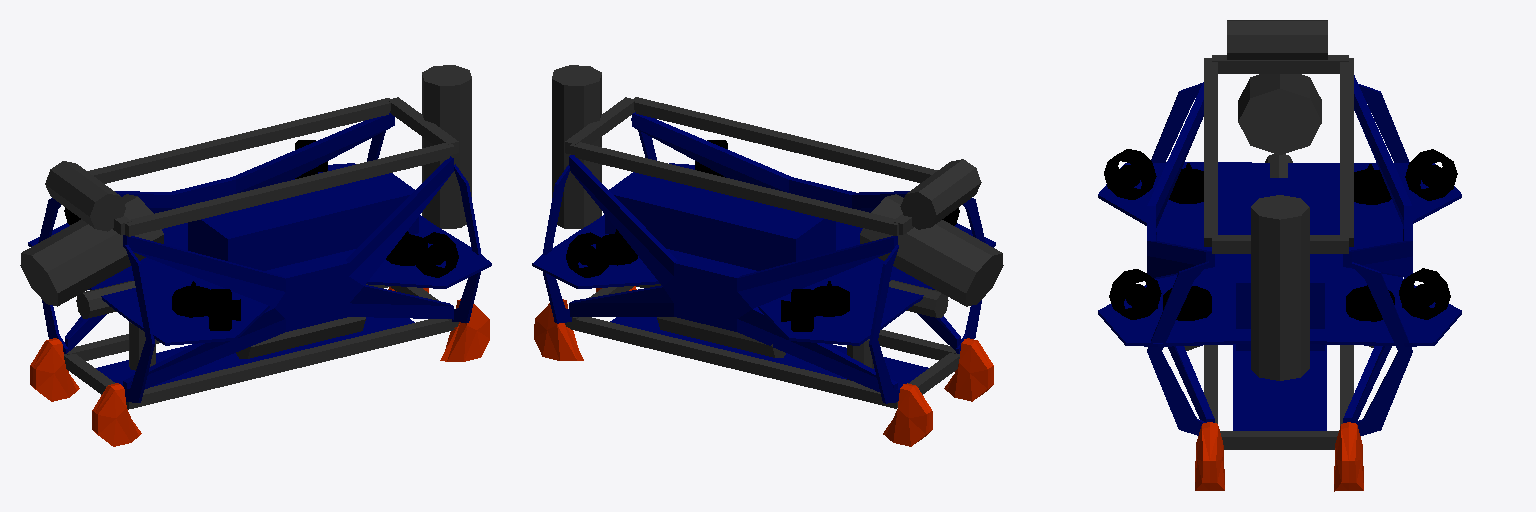
--- Render facts (derived) ---
The picture shows the robot from 3 angles, left to right: view 1: azimuth 30°, elevation 25°; view 2: azimuth 150°, elevation 25°; view 3: azimuth 270°, elevation 25°; orthographic projection.
Model sub9 with 22 links and 21 joints (8 revolute, 13 fixed), rooted at base_link, posed all joints at 0.
Visible links, largest first — view 1: base_link; view 2: base_link; view 3: base_link.
Link boxes in pixels (bbox=[...]): base_link: bbox=[20, 65, 491, 446]; base_link: bbox=[532, 65, 1003, 446]; base_link: bbox=[1098, 20, 1461, 491].
Bounding box of the posed robot: 0.9503 × 0.6072 × 0.5259 m (x, y, z).
1 mesh visuals loaded from 1 distinct referenced files (1 Collada DAE).

The robot description file, URDF, robot "sub9":
<?xml version="1.0" ?>
<!-- =================================================================================== -->
<!-- |    This document was autogenerated by xacro from [local-path]/mil2/src/subjugator/simulation/subjugator_description/urdf/sub9.urdf.xacro | -->
<!-- |    EDITING THIS FILE BY HAND IS NOT RECOMMENDED                                 | -->
<!-- =================================================================================== -->
<robot name="sub9" xmlns:experimental="http://sdformat.org/schemas/experimental" xmlns:gz="http://gazebosim.org/schema">
  <!-- Base Link of the Sub -->
  <link name="base_link">
    <!-- Sub's Pose -->
    <origin rpy="0 0 0" xyz="-0.1 0.0125 -1"/>
    <!-- Inertial Properties -->
    <inertial>
      <origin rpy="0 0 0" xyz="0 0 0"/>
      <!-- Need to be properly calculated at some point -->
      <mass value="30.5"/>
      <inertia ixx="0.96105" ixy="0.003" ixz="-0.02" iyy="1.799" iyz="0.0003" izz="2.1286"/>
    </inertial>
    <!-- Visual Data-->
    <visual name="visual">
      <origin rpy="0 0 0" xyz="0 0 0"/>
      <geometry>
        <mesh filename="package://subjugator_description/urdf/meshes/Sub9.dae"/>
      </geometry>
    </visual>
    <!-- Collision Data -->
    <collision name="main_collision">
      <!-- This collision is for calculating the buoyant forces-->
      <origin rpy="0 0 0" xyz="0 0 0.1"/>
      <geometry>
        <box size="0.9 0.35 0.2"/>
      </geometry>
    </collision>
    <!-- Need to add 'shell' collisions-->
  </link>
  <gazebo>
    <plugin filename="gz-sim-hydrodynamics-system" name="gz::sim::systems::Hydrodynamics">
      <link_name>base_link</link_name>
      <xDotU>-2</xDotU>
      <yDotV>-5</yDotV>
      <zDotW>-5</zDotW>
      <kDotP>-0.1</kDotP>
      <mDotQ>-1</mDotQ>
      <nDotR>-1</nDotR>
      <xUabsU>-25</xUabsU>
      <xU>-50</xU>
      <yVabsV>-25</yVabsV>
      <yV>-50</yV>
      <zWabsW>-5</zWabsW>
      <zW>-50</zW>
      <kPabsP>-5</kPabsP>
      <kP>-10</kP>
      <mQabsQ>-5</mQabsQ>
      <mQ>-10</mQ>
      <nRabsR>-5</nRabsR>
      <nR>-10</nR>
    </plugin>
  </gazebo>
  <!-- Camera Link -->
  <link name="front_cam_link">
    <origin rpy="0 0 0" xyz="0 0 0"/>
    <inertial>
      <origin rpy="0 0 0" xyz="0 0 0"/>
      <mass value="0.1"/>
      <inertia ixx="0.001" ixy="0" ixz="0" iyy="0.001" iyz="0" izz="0.001"/>
    </inertial>
  </link>
  <!-- Camera Joint -->
  <joint name="front_cam_joint" type="fixed">
    <origin rpy="0 0 3.14159" xyz="-0.32 -0.014274 -0.050"/>
    <parent link="base_link"/>
    <child link="front_cam_link"/>
  </joint>
  <!-- This ensures that the fixed link is not simplified away -->
  <gazebo reference="front_cam_joint">
    <disableFixedJointLumping>true</disableFixedJointLumping>
    <preserveFixedJoint>true</preserveFixedJoint>
  </gazebo>
  <gazebo reference="front_cam_link">
    <sensor name="front_cam_camera" type="rgbd_camera">
      <update_rate>30</update_rate>
      <visualize>true</visualize>
      <always_on>1</always_on>
      <topic>front_cam</topic>
      <camera>
        <horizontal_fov>1.047</horizontal_fov>
        <image>
          <width>960</width>
          <height>600</height>
        </image>
        <clip>
          <near>0.1</near>
          <far>10.0</far>
        </clip>
      </camera>
    </sensor>
  </gazebo>
  <!-- Camera Link -->
  <link name="down_cam_link">
    <origin rpy="0 0 0" xyz="0 0 0"/>
    <inertial>
      <origin rpy="0 0 0" xyz="0 0 0"/>
      <mass value="0.1"/>
      <inertia ixx="0.001" ixy="0" ixz="0" iyy="0.001" iyz="0" izz="0.001"/>
    </inertial>
  </link>
  <!-- Camera Joint -->
  <joint name="down_cam_joint" type="fixed">
    <origin rpy="0 1.57 0" xyz="-0.15222 0.027913 -0.22"/>
    <parent link="base_link"/>
    <child link="down_cam_link"/>
  </joint>
  <!-- This ensures that the fixed link is not simplified away -->
  <gazebo reference="down_cam_joint">
    <disableFixedJointLumping>true</disableFixedJointLumping>
    <preserveFixedJoint>true</preserveFixedJoint>
  </gazebo>
  <gazebo reference="down_cam_link">
    <sensor name="down_cam_camera" type="rgbd_camera">
      <update_rate>30</update_rate>
      <visualize>true</visualize>
      <always_on>1</always_on>
      <topic>down_cam</topic>
      <camera>
        <horizontal_fov>1.047</horizontal_fov>
        <image>
          <width>960</width>
          <height>600</height>
        </image>
        <clip>
          <near>0.1</near>
          <far>10.0</far>
        </clip>
      </camera>
    </sensor>
  </gazebo>
  <!-- DVL Link -->
  <link name="dvl_sensor_link">
    <origin rpy="0 0 0" xyz="0 0 0"/>
    <inertial>
      <origin rpy="0 0 0" xyz="0 0 0"/>
      <mass value="0.1"/>
      <inertia ixx="0.001" ixy="0" ixz="0" iyy="0.001" iyz="0" izz="0.001"/>
    </inertial>
  </link>
  <!-- DVL Joint -->
  <joint name="dvl_sensor_joint" type="fixed">
    <origin rpy="0 0 0" xyz="0.21236 0.00254 -0.10233"/>
    <parent link="base_link"/>
    <child link="dvl_sensor_link"/>
  </joint>
  <!-- This ensures that the fixed link is not simplified away -->
  <gazebo reference="dvl_sensor_joint">
    <disableFixedJointLumping>true</disableFixedJointLumping>
    <preserveFixedJoint>true</preserveFixedJoint>
  </gazebo>
  <!-- Sensor/Plugin Info-->
  <gazebo reference="dvl_sensor_link">
    <sensor gz:type="dvl" name="A50_Waterlinked" type="custom">
      <pose>0 0 0 0 0 0</pose>
      <always_on>1</always_on>
      <update_rate>8</update_rate>
      <topic>/dvl/velocity</topic>
      <gz:dvl>
        <type>phased_array</type>
        <arrangement degrees="true">
          <beam id="1">
            <aperture>3</aperture>
            <rotation>-135</rotation>
            <tilt>25</tilt>
          </beam>
          <beam>
            <aperture>3</aperture>
            <rotation>135</rotation>
            <tilt>25</tilt>
          </beam>
          <beam>
            <aperture>3</aperture>
            <rotation>45</rotation>
            <tilt>25</tilt>
          </beam>
          <beam>
            <aperture>3</aperture>
            <rotation>-45</rotation>
            <tilt>25</tilt>
          </beam>
        </arrangement>
        <tracking>
          <water_mass_mode>
            <when>best</when>
            <water_velocity>
              <x>0.</x>
              <y>0.</y>
              <z>0.</z>
            </water_velocity>
            <boundaries>
              <near>10.</near>
              <far>100.</far>
            </boundaries>
            <bins>10</bins>
            <noise type="gaussian">
              <stddev>0.015</stddev>
            </noise>
            <visualize>true</visualize>
          </water_mass_mode>
          <bottom_mode>
            <when>best</when>
            <noise type="gaussian">
              <stddev>0.005</stddev>
            </noise>
            <visualize>true</visualize>
          </bottom_mode>
        </tracking>
        <maximum_range>200.</maximum_range>
        <minimum_range>0.3</minimum_range>
        <!-- ENU to FSD -->
        <reference_frame>0 0 0 3.14 0 -1.57</reference_frame>
      </gz:dvl>
    </sensor>
  </gazebo>
  <gazebo>
    <plugin filename="DVLBridge" name="dave_ros_gz_plugins::DVLBridge">
      <!-- Grabbed in DVL Bridge script -->
      <topic>/dvl/velocity</topic>
    </plugin>
  </gazebo>
  <!-- Imu link -->
  <link name="imu_link">
    <origin rpy="0 0 0" xyz="0 0 0"/>
    <inertial>
      <origin rpy="0 0 0" xyz="0 0 0"/>
      <mass value="0.1"/>
      <inertia ixx="0.001" ixy="0" ixz="0" iyy="0.001" iyz="0" izz="0.001"/>
    </inertial>
  </link>
  <!-- IMU joint -->
  <joint name="imu_joint" type="fixed">
    <origin rpy="0 0 0" xyz="0.0632 -0.164 -0.079"/>
    <parent link="base_link"/>
    <child link="imu_link"/>
  </joint>
  <!-- This ensures that the fixed link is not simplified away -->
  <gazebo reference="imu_joint">
    <disableFixedJointLumping>true</disableFixedJointLumping>
    <preserveFixedJoint>true</preserveFixedJoint>
  </gazebo>
  <!-- Sensor/Plugin Info-->
  <gazebo reference="imu_link">
    <sensor name="imu_link" type="imu">
      <always_on>true</always_on>
      <update_rate>210</update_rate>
      <topic>/imu/data_raw</topic>
      <gz_frame_id>imu_link</gz_frame_id>
      <imu>
        <linear_acceleration>
          <x>
            <noise type="gaussian">
              <stddev>0.08825985</stddev>
            </noise>
          </x>
          <y>
            <noise type="gaussian">
              <stddev>0.08825985</stddev>
            </noise>
          </y>
          <z>
            <noise type="gaussian">
              <stddev>0.08825985</stddev>
            </noise>
          </z>
        </linear_acceleration>
        <angular_velocity>
          <x>
            <noise type="gaussian">
              <stddev>0.015707963</stddev>
            </noise>
          </x>
          <y>
            <noise type="gaussian">
              <stddev>0.015707963</stddev>
            </noise>
          </y>
          <z>
            <noise type="gaussian">
              <stddev>0.015707963</stddev>
            </noise>
          </z>
        </angular_velocity>
      </imu>
      <plugin filename="gz-sim-imu-system" name="gz::sim::systems::Imu"/>
    </sensor>
    <sensor name="VectorNav_MAG" type="magnetometer">
      <always_on>true</always_on>
      <update_rate>210</update_rate>
      <topic>/imu/mag</topic>
      <plugin filename="gz-sim-magnetometer-system" name="gz::sim::systems::Magnetometer"/>
    </sensor>
  </gazebo>
  <link name="depth_sensor_link">
    <origin rpy="0 0 0" xyz="0 0 0"/>
    <inertial>
      <origin rpy="0 0 0" xyz="0 0 0"/>
      <mass value="0.1"/>
      <inertia ixx="0.001" ixy="0" ixz="0" iyy="0.001" iyz="0" izz="0.001"/>
    </inertial>
  </link>
  <!-- DepthSensor Joint -->
  <joint name="depth_sensor_joint" type="fixed">
    <parent link="base_link"/>
    <child link="depth_sensor_link"/>
    <origin rpy="0 0 0" xyz="0 0 -0.2"/>
  </joint>
  <!-- This ensures that the fixed link is not simplified away -->
  <gazebo reference="depth_sensor_joint">
    <disableFixedJointLumping>true</disableFixedJointLumping>
    <preserveFixedJoint>true</preserveFixedJoint>
  </gazebo>
  <gazebo reference="depth_sensor_plugin">
    <sensor name="depth" type="depth_sensor">
      <topic>/depth</topic>
      <plugin filename="DepthSensor" name="depth_sensor::DepthSensor">
        <!-- SDF parameters -->
        <frame_id>depth_sensor_frame</frame_id>
        <offset>0 0 0 0 0 0</offset>
        <update_rate>10</update_rate>
      </plugin>
    </sensor>
  </gazebo>
  <!-- Link for base of thruster (this is for TF) -->
  <link name="FLV_link">
    <origin rpy="0 0 0" xyz="0 0 0"/>
    <inertial>
      <origin rpy="0 0 0" xyz="0 0 0"/>
      <mass value="0.01"/>
      <inertia ixx="0.001" ixy="0" ixz="0" iyy="0.001" iyz="0" izz="0.001"/>
    </inertial>
  </link>
  <!-- Thruster base Joint -->
  <joint name="FLV_joint" type="fixed">
    <origin rpy="0 0 0" xyz="-0.15217 -0.16474 0.010449"/>
    <parent link="base_link"/>
    <child link="FLV_link"/>
  </joint>
  <!-- This ensures that the fixed link is not simplified away -->
  <gazebo reference="FLV_joint">
    <disableFixedJointLumping>true</disableFixedJointLumping>
    <preserveFixedJoint>true</preserveFixedJoint>
  </gazebo>
  <!-- Thruster Direction link (this is for the plugin) -->
  <!-- The plugin does not work with a fixed link -->
  <link name="FLV_dir_link">
    <origin rpy="0 0 0" xyz="0 0 0"/>
    <inertial>
      <origin rpy="0 0 0" xyz="0 0 0"/>
      <mass value="0.01"/>
      <inertia ixx="0.001" ixy="0" ixz="0" iyy="0.001" iyz="0" izz="0.001"/>
    </inertial>
  </link>
  <!-- Thruster Direction joint -->
  <joint name="FLV_dir_joint" type="revolute">
    <origin rpy="0 0 0" xyz="0 0 1"/>
    <parent link="FLV_link"/>
    <child link="FLV_dir_link"/>
    <limit effort="1000" lower="0.0" upper="0.548" velocity="0.5"/>
    <axis xyz="0 0 1"/>
  </joint>
  <!-- Sensor/Plugin Info-->
  <!-- For the thruster plugin this gazebo tag needs to be global-->
  <!-- Don't give it a reference like the other plugins-->
  <gazebo>
    <plugin filename="gz-sim-thruster-system" name="gz::sim::systems::Thruster">
      <namespace>FLV</namespace>
      <use_angvel_cmd>0</use_angvel_cmd>
      <joint_name>FLV_dir_joint</joint_name>
      <thrust_coefficient>0.01407</thrust_coefficient>
      <fluid_density>1000</fluid_density>
      <propeller_diameter>0.2</propeller_diameter>
    </plugin>
  </gazebo>
  <!-- Link for base of thruster (this is for TF) -->
  <link name="FRV_link">
    <origin rpy="0 0 0" xyz="0 0 0"/>
    <inertial>
      <origin rpy="0 0 0" xyz="0 0 0"/>
      <mass value="0.01"/>
      <inertia ixx="0.001" ixy="0" ixz="0" iyy="0.001" iyz="0" izz="0.001"/>
    </inertial>
  </link>
  <!-- Thruster base Joint -->
  <joint name="FRV_joint" type="fixed">
    <origin rpy="0 0 0" xyz="-0.1492 0.13821 0.010449"/>
    <parent link="base_link"/>
    <child link="FRV_link"/>
  </joint>
  <!-- This ensures that the fixed link is not simplified away -->
  <gazebo reference="FRV_joint">
    <disableFixedJointLumping>true</disableFixedJointLumping>
    <preserveFixedJoint>true</preserveFixedJoint>
  </gazebo>
  <!-- Thruster Direction link (this is for the plugin) -->
  <!-- The plugin does not work with a fixed link -->
  <link name="FRV_dir_link">
    <origin rpy="0 0 0" xyz="0 0 0"/>
    <inertial>
      <origin rpy="0 0 0" xyz="0 0 0"/>
      <mass value="0.01"/>
      <inertia ixx="0.001" ixy="0" ixz="0" iyy="0.001" iyz="0" izz="0.001"/>
    </inertial>
  </link>
  <!-- Thruster Direction joint -->
  <joint name="FRV_dir_joint" type="revolute">
    <origin rpy="0 0 0" xyz="0 0 1"/>
    <parent link="FRV_link"/>
    <child link="FRV_dir_link"/>
    <limit effort="1000" lower="0.0" upper="0.548" velocity="0.5"/>
    <axis xyz="0 0 1"/>
  </joint>
  <!-- Sensor/Plugin Info-->
  <!-- For the thruster plugin this gazebo tag needs to be global-->
  <!-- Don't give it a reference like the other plugins-->
  <gazebo>
    <plugin filename="gz-sim-thruster-system" name="gz::sim::systems::Thruster">
      <namespace>FRV</namespace>
      <use_angvel_cmd>0</use_angvel_cmd>
      <joint_name>FRV_dir_joint</joint_name>
      <thrust_coefficient>0.01407</thrust_coefficient>
      <fluid_density>1000</fluid_density>
      <propeller_diameter>0.2</propeller_diameter>
    </plugin>
  </gazebo>
  <!-- Link for base of thruster (this is for TF) -->
  <link name="BRV_link">
    <origin rpy="0 0 0" xyz="0 0 0"/>
    <inertial>
      <origin rpy="0 0 0" xyz="0 0 0"/>
      <mass value="0.01"/>
      <inertia ixx="0.001" ixy="0" ixz="0" iyy="0.001" iyz="0" izz="0.001"/>
    </inertial>
  </link>
  <!-- Thruster base Joint -->
  <joint name="BRV_joint" type="fixed">
    <origin rpy="0 0 0" xyz="0.31117 0.13821 0.010449"/>
    <parent link="base_link"/>
    <child link="BRV_link"/>
  </joint>
  <!-- This ensures that the fixed link is not simplified away -->
  <gazebo reference="BRV_joint">
    <disableFixedJointLumping>true</disableFixedJointLumping>
    <preserveFixedJoint>true</preserveFixedJoint>
  </gazebo>
  <!-- Thruster Direction link (this is for the plugin) -->
  <!-- The plugin does not work with a fixed link -->
  <link name="BRV_dir_link">
    <origin rpy="0 0 0" xyz="0 0 0"/>
    <inertial>
      <origin rpy="0 0 0" xyz="0 0 0"/>
      <mass value="0.01"/>
      <inertia ixx="0.001" ixy="0" ixz="0" iyy="0.001" iyz="0" izz="0.001"/>
    </inertial>
  </link>
  <!-- Thruster Direction joint -->
  <joint name="BRV_dir_joint" type="revolute">
    <origin rpy="0 0 0" xyz="0 0 1"/>
    <parent link="BRV_link"/>
    <child link="BRV_dir_link"/>
    <limit effort="1000" lower="0.0" upper="0.548" velocity="0.5"/>
    <axis xyz="0 0 1"/>
  </joint>
  <!-- Sensor/Plugin Info-->
  <!-- For the thruster plugin this gazebo tag needs to be global-->
  <!-- Don't give it a reference like the other plugins-->
  <gazebo>
    <plugin filename="gz-sim-thruster-system" name="gz::sim::systems::Thruster">
      <namespace>BRV</namespace>
      <use_angvel_cmd>0</use_angvel_cmd>
      <joint_name>BRV_dir_joint</joint_name>
      <thrust_coefficient>0.01407</thrust_coefficient>
      <fluid_density>1000</fluid_density>
      <propeller_diameter>0.2</propeller_diameter>
    </plugin>
  </gazebo>
  <!-- Link for base of thruster (this is for TF) -->
  <link name="BLV_link">
    <origin rpy="0 0 0" xyz="0 0 0"/>
    <inertial>
      <origin rpy="0 0 0" xyz="0 0 0"/>
      <mass value="0.01"/>
      <inertia ixx="0.001" ixy="0" ixz="0" iyy="0.001" iyz="0" izz="0.001"/>
    </inertial>
  </link>
  <!-- Thruster base Joint -->
  <joint name="BLV_joint" type="fixed">
    <origin rpy="0 0 0" xyz="0.30868 -0.16621 0.010449"/>
    <parent link="base_link"/>
    <child link="BLV_link"/>
  </joint>
  <!-- This ensures that the fixed link is not simplified away -->
  <gazebo reference="BLV_joint">
    <disableFixedJointLumping>true</disableFixedJointLumping>
    <preserveFixedJoint>true</preserveFixedJoint>
  </gazebo>
  <!-- Thruster Direction link (this is for the plugin) -->
  <!-- The plugin does not work with a fixed link -->
  <link name="BLV_dir_link">
    <origin rpy="0 0 0" xyz="0 0 0"/>
    <inertial>
      <origin rpy="0 0 0" xyz="0 0 0"/>
      <mass value="0.01"/>
      <inertia ixx="0.001" ixy="0" ixz="0" iyy="0.001" iyz="0" izz="0.001"/>
    </inertial>
  </link>
  <!-- Thruster Direction joint -->
  <joint name="BLV_dir_joint" type="revolute">
    <origin rpy="0 0 0" xyz="0 0 1"/>
    <parent link="BLV_link"/>
    <child link="BLV_dir_link"/>
    <limit effort="1000" lower="0.0" upper="0.548" velocity="0.5"/>
    <axis xyz="0 0 1"/>
  </joint>
  <!-- Sensor/Plugin Info-->
  <!-- For the thruster plugin this gazebo tag needs to be global-->
  <!-- Don't give it a reference like the other plugins-->
  <gazebo>
    <plugin filename="gz-sim-thruster-system" name="gz::sim::systems::Thruster">
      <namespace>BLV</namespace>
      <use_angvel_cmd>0</use_angvel_cmd>
      <joint_name>BLV_dir_joint</joint_name>
      <thrust_coefficient>0.01407</thrust_coefficient>
      <fluid_density>1000</fluid_density>
      <propeller_diameter>0.2</propeller_diameter>
    </plugin>
  </gazebo>
  <!-- Link for base of thruster (this is for TF) -->
  <link name="FLH_link">
    <origin rpy="0 0 0" xyz="0 0 0"/>
    <inertial>
      <origin rpy="0 0 0" xyz="0 0 0"/>
      <mass value="0.01"/>
      <inertia ixx="0.001" ixy="0" ixz="0" iyy="0.001" iyz="0" izz="0.001"/>
    </inertial>
  </link>
  <!-- Thruster base Joint -->
  <joint name="FLH_joint" type="fixed">
    <origin rpy="-1.5708 0 0.7854" xyz="-0.14714 -0.26409 0.038317"/>
    <parent link="base_link"/>
    <child link="FLH_link"/>
  </joint>
  <!-- This ensures that the fixed link is not simplified away -->
  <gazebo reference="FLH_joint">
    <disableFixedJointLumping>true</disableFixedJointLumping>
    <preserveFixedJoint>true</preserveFixedJoint>
  </gazebo>
  <!-- Thruster Direction link (this is for the plugin) -->
  <!-- The plugin does not work with a fixed link -->
  <link name="FLH_dir_link">
    <origin rpy="0 0 0" xyz="0 0 0"/>
    <inertial>
      <origin rpy="0 0 0" xyz="0 0 0"/>
      <mass value="0.01"/>
      <inertia ixx="0.001" ixy="0" ixz="0" iyy="0.001" iyz="0" izz="0.001"/>
    </inertial>
  </link>
  <!-- Thruster Direction joint -->
  <joint name="FLH_dir_joint" type="revolute">
    <origin rpy="0 0 0" xyz="0 0 1"/>
    <parent link="FLH_link"/>
    <child link="FLH_dir_link"/>
    <limit effort="1000" lower="0.0" upper="0.548" velocity="0.5"/>
    <axis xyz="0 0 1"/>
  </joint>
  <!-- Sensor/Plugin Info-->
  <!-- For the thruster plugin this gazebo tag needs to be global-->
  <!-- Don't give it a reference like the other plugins-->
  <gazebo>
    <plugin filename="gz-sim-thruster-system" name="gz::sim::systems::Thruster">
      <namespace>FLH</namespace>
      <use_angvel_cmd>0</use_angvel_cmd>
      <joint_name>FLH_dir_joint</joint_name>
      <thrust_coefficient>0.01407</thrust_coefficient>
      <fluid_density>1000</fluid_density>
      <propeller_diameter>0.2</propeller_diameter>
    </plugin>
  </gazebo>
  <!-- Link for base of thruster (this is for TF) -->
  <link name="FRH_link">
    <origin rpy="0 0 0" xyz="0 0 0"/>
    <inertial>
      <origin rpy="0 0 0" xyz="0 0 0"/>
      <mass value="0.01"/>
      <inertia ixx="0.001" ixy="0" ixz="0" iyy="0.001" iyz="0" izz="0.001"/>
    </inertial>
  </link>
  <!-- Thruster base Joint -->
  <joint name="FRH_joint" type="fixed">
    <origin rpy="1.5708 0 -0.7854" xyz="-0.147 0.2413 0.038324"/>
    <parent link="base_link"/>
    <child link="FRH_link"/>
  </joint>
  <!-- This ensures that the fixed link is not simplified away -->
  <gazebo reference="FRH_joint">
    <disableFixedJointLumping>true</disableFixedJointLumping>
    <preserveFixedJoint>true</preserveFixedJoint>
  </gazebo>
  <!-- Thruster Direction link (this is for the plugin) -->
  <!-- The plugin does not work with a fixed link -->
  <link name="FRH_dir_link">
    <origin rpy="0 0 0" xyz="0 0 0"/>
    <inertial>
      <origin rpy="0 0 0" xyz="0 0 0"/>
      <mass value="0.01"/>
      <inertia ixx="0.001" ixy="0" ixz="0" iyy="0.001" iyz="0" izz="0.001"/>
    </inertial>
  </link>
  <!-- Thruster Direction joint -->
  <joint name="FRH_dir_joint" type="revolute">
    <origin rpy="0 0 0" xyz="0 0 1"/>
    <parent link="FRH_link"/>
    <child link="FRH_dir_link"/>
    <limit effort="1000" lower="0.0" upper="0.548" velocity="0.5"/>
    <axis xyz="0 0 1"/>
  </joint>
  <!-- Sensor/Plugin Info-->
  <!-- For the thruster plugin this gazebo tag needs to be global-->
  <!-- Don't give it a reference like the other plugins-->
  <gazebo>
    <plugin filename="gz-sim-thruster-system" name="gz::sim::systems::Thruster">
      <namespace>FRH</namespace>
      <use_angvel_cmd>0</use_angvel_cmd>
      <joint_name>FRH_dir_joint</joint_name>
      <thrust_coefficient>0.01407</thrust_coefficient>
      <fluid_density>1000</fluid_density>
      <propeller_diameter>0.2</propeller_diameter>
    </plugin>
  </gazebo>
  <!-- Link for base of thruster (this is for TF) -->
  <link name="BRH_link">
    <origin rpy="0 0 0" xyz="0 0 0"/>
    <inertial>
      <origin rpy="0 0 0" xyz="0 0 0"/>
      <mass value="0.01"/>
      <inertia ixx="0.001" ixy="0" ixz="0" iyy="0.001" iyz="0" izz="0.001"/>
    </inertial>
  </link>
  <!-- Thruster base Joint -->
  <joint name="BRH_joint" type="fixed">
    <origin rpy="-1.5708 0 0.7854" xyz="0.32369 0.22645 0.038317"/>
    <parent link="base_link"/>
    <child link="BRH_link"/>
  </joint>
  <!-- This ensures that the fixed link is not simplified away -->
  <gazebo reference="BRH_joint">
    <disableFixedJointLumping>true</disableFixedJointLumping>
    <preserveFixedJoint>true</preserveFixedJoint>
  </gazebo>
  <!-- Thruster Direction link (this is for the plugin) -->
  <!-- The plugin does not work with a fixed link -->
  <link name="BRH_dir_link">
    <origin rpy="0 0 0" xyz="0 0 0"/>
    <inertial>
      <origin rpy="0 0 0" xyz="0 0 0"/>
      <mass value="0.01"/>
      <inertia ixx="0.001" ixy="0" ixz="0" iyy="0.001" iyz="0" izz="0.001"/>
    </inertial>
  </link>
  <!-- Thruster Direction joint -->
  <joint name="BRH_dir_joint" type="revolute">
    <origin rpy="0 0 0" xyz="0 0 1"/>
    <parent link="BRH_link"/>
    <child link="BRH_dir_link"/>
    <limit effort="1000" lower="0.0" upper="0.548" velocity="0.5"/>
    <axis xyz="0 0 1"/>
  </joint>
  <!-- Sensor/Plugin Info-->
  <!-- For the thruster plugin this gazebo tag needs to be global-->
  <!-- Don't give it a reference like the other plugins-->
  <gazebo>
    <plugin filename="gz-sim-thruster-system" name="gz::sim::systems::Thruster">
      <namespace>BRH</namespace>
      <use_angvel_cmd>0</use_angvel_cmd>
      <joint_name>BRH_dir_joint</joint_name>
      <thrust_coefficient>0.01407</thrust_coefficient>
      <fluid_density>1000</fluid_density>
      <propeller_diameter>0.2</propeller_diameter>
    </plugin>
  </gazebo>
  <!-- Link for base of thruster (this is for TF) -->
  <link name="BLH_link">
    <origin rpy="0 0 0" xyz="0 0 0"/>
    <inertial>
      <origin rpy="0 0 0" xyz="0 0 0"/>
      <mass value="0.01"/>
      <inertia ixx="0.001" ixy="0" ixz="0" iyy="0.001" iyz="0" izz="0.001"/>
    </inertial>
  </link>
  <!-- Thruster base Joint -->
  <joint name="BLH_joint" type="fixed">
    <origin rpy="1.5708 0 -0.7854" xyz="0.32397 -0.25204 0.038324"/>
    <parent link="base_link"/>
    <child link="BLH_link"/>
  </joint>
  <!-- This ensures that the fixed link is not simplified away -->
  <gazebo reference="BLH_joint">
    <disableFixedJointLumping>true</disableFixedJointLumping>
    <preserveFixedJoint>true</preserveFixedJoint>
  </gazebo>
  <!-- Thruster Direction link (this is for the plugin) -->
  <!-- The plugin does not work with a fixed link -->
  <link name="BLH_dir_link">
    <origin rpy="0 0 0" xyz="0 0 0"/>
    <inertial>
      <origin rpy="0 0 0" xyz="0 0 0"/>
      <mass value="0.01"/>
      <inertia ixx="0.001" ixy="0" ixz="0" iyy="0.001" iyz="0" izz="0.001"/>
    </inertial>
  </link>
  <!-- Thruster Direction joint -->
  <joint name="BLH_dir_joint" type="revolute">
    <origin rpy="0 0 0" xyz="0 0 1"/>
    <parent link="BLH_link"/>
    <child link="BLH_dir_link"/>
    <limit effort="1000" lower="0.0" upper="0.548" velocity="0.5"/>
    <axis xyz="0 0 1"/>
  </joint>
  <!-- Sensor/Plugin Info-->
  <!-- For the thruster plugin this gazebo tag needs to be global-->
  <!-- Don't give it a reference like the other plugins-->
  <gazebo>
    <plugin filename="gz-sim-thruster-system" name="gz::sim::systems::Thruster">
      <namespace>BLH</namespace>
      <use_angvel_cmd>0</use_angvel_cmd>
      <joint_name>BLH_dir_joint</joint_name>
      <thrust_coefficient>0.01407</thrust_coefficient>
      <fluid_density>1000</fluid_density>
      <propeller_diameter>0.2</propeller_diameter>
    </plugin>
  </gazebo>
</robot>
